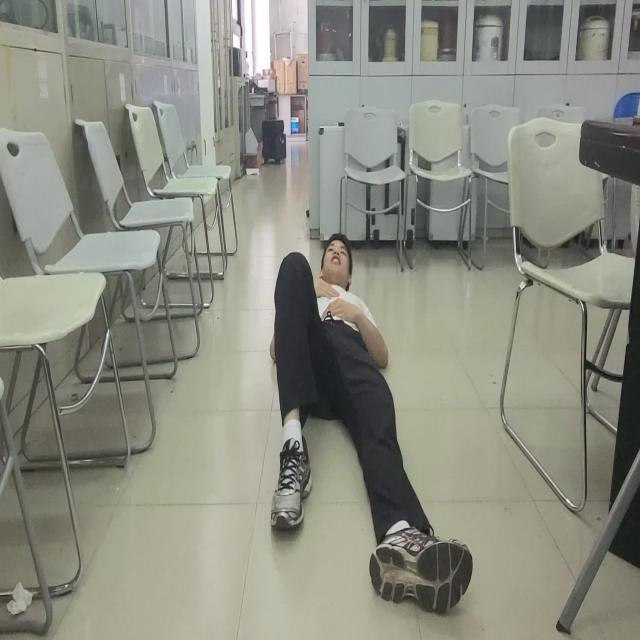fall: (267, 230, 474, 614)
